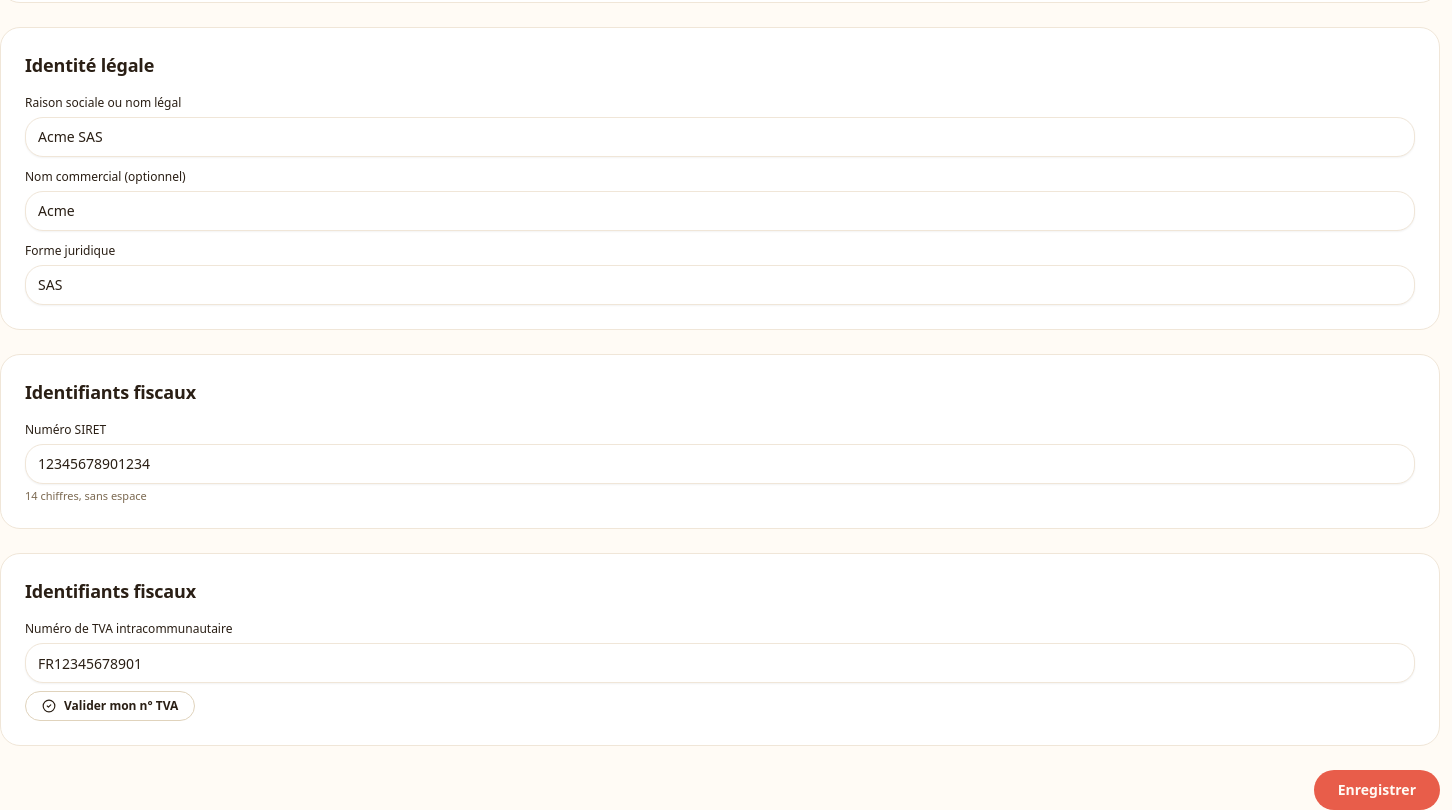
Test case: BillingProfileForm › shows the update error message when save fails
This screenshot has width=1452, height=810.
(page scrolled)
Expected: the field labelled "Raison sociale ou nom légal" holds "Acme SAS", 25,117 -> 1415,157
Step 1. Click the button "Enregistrer" → (1377,790), box 1314,770 -> 1440,809
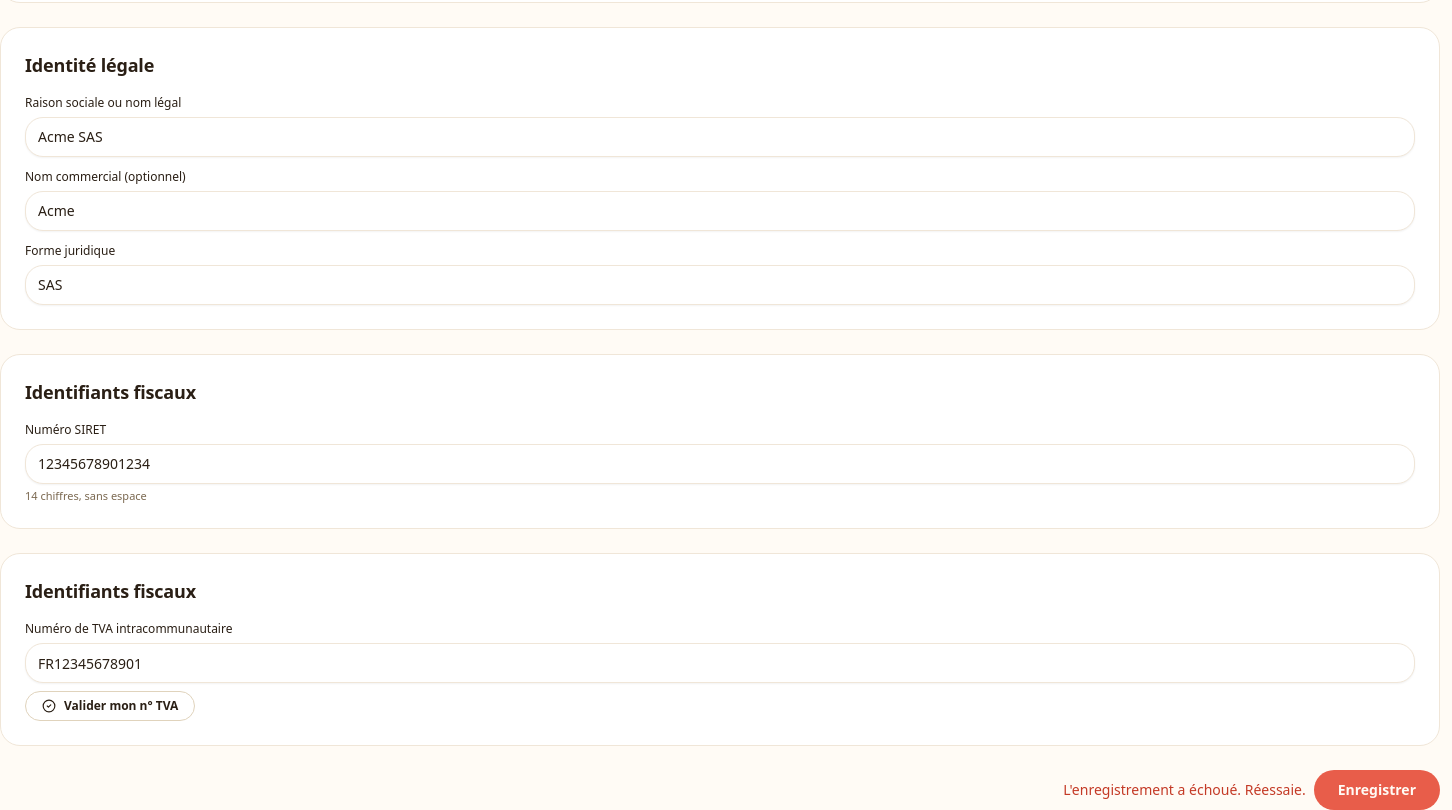
Result: the text "L'enregistrement a échoué. Réessaie." is shown at 1063,780 -> 1306,800
